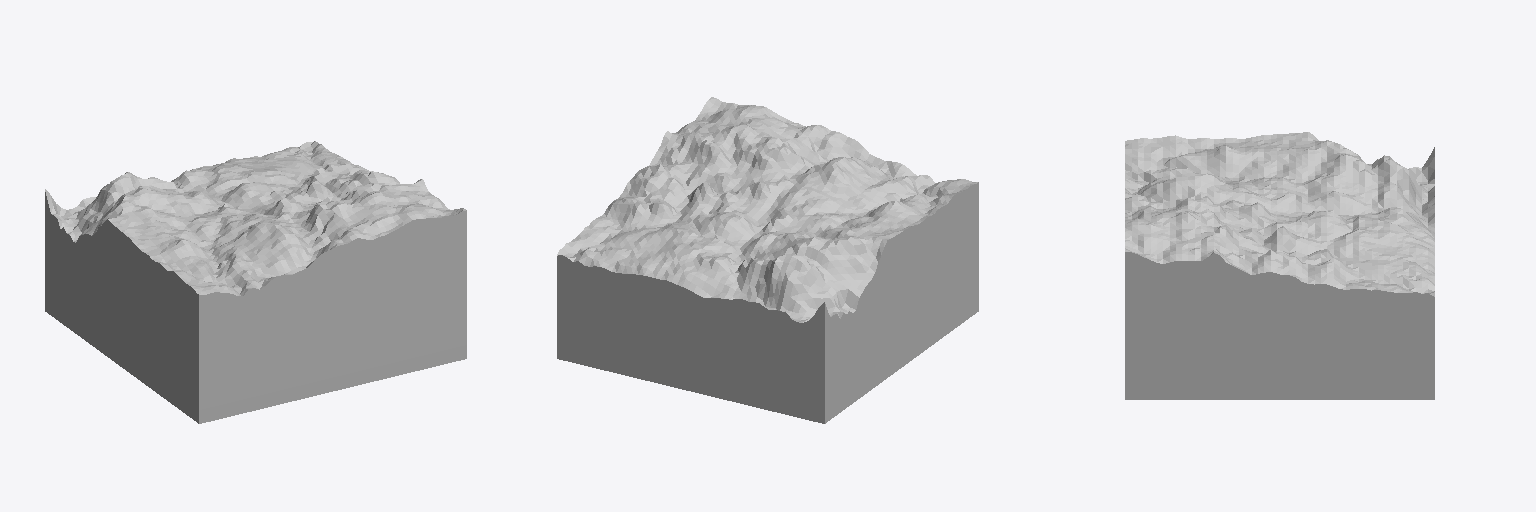
Rendered from block_2_1.obj.
The picture shows the model from 3 angles: view 1: azimuth 30°, elevation 25°; view 2: azimuth 150°, elevation 25°; view 3: azimuth 270°, elevation 25°; orthographic projection.
Visible parts, largest first — view 1: Mesh_8; view 2: Mesh_8; view 3: Mesh_8.
Part boxes in pixels (left/top/right/bottom): Mesh_8: left=45, top=141, right=466, bottom=423; Mesh_8: left=557, top=97, right=978, bottom=423; Mesh_8: left=1125, top=132, right=1434, bottom=399.
Bounding box in the file's own units: 0.1 × 0.0563 × 0.1.